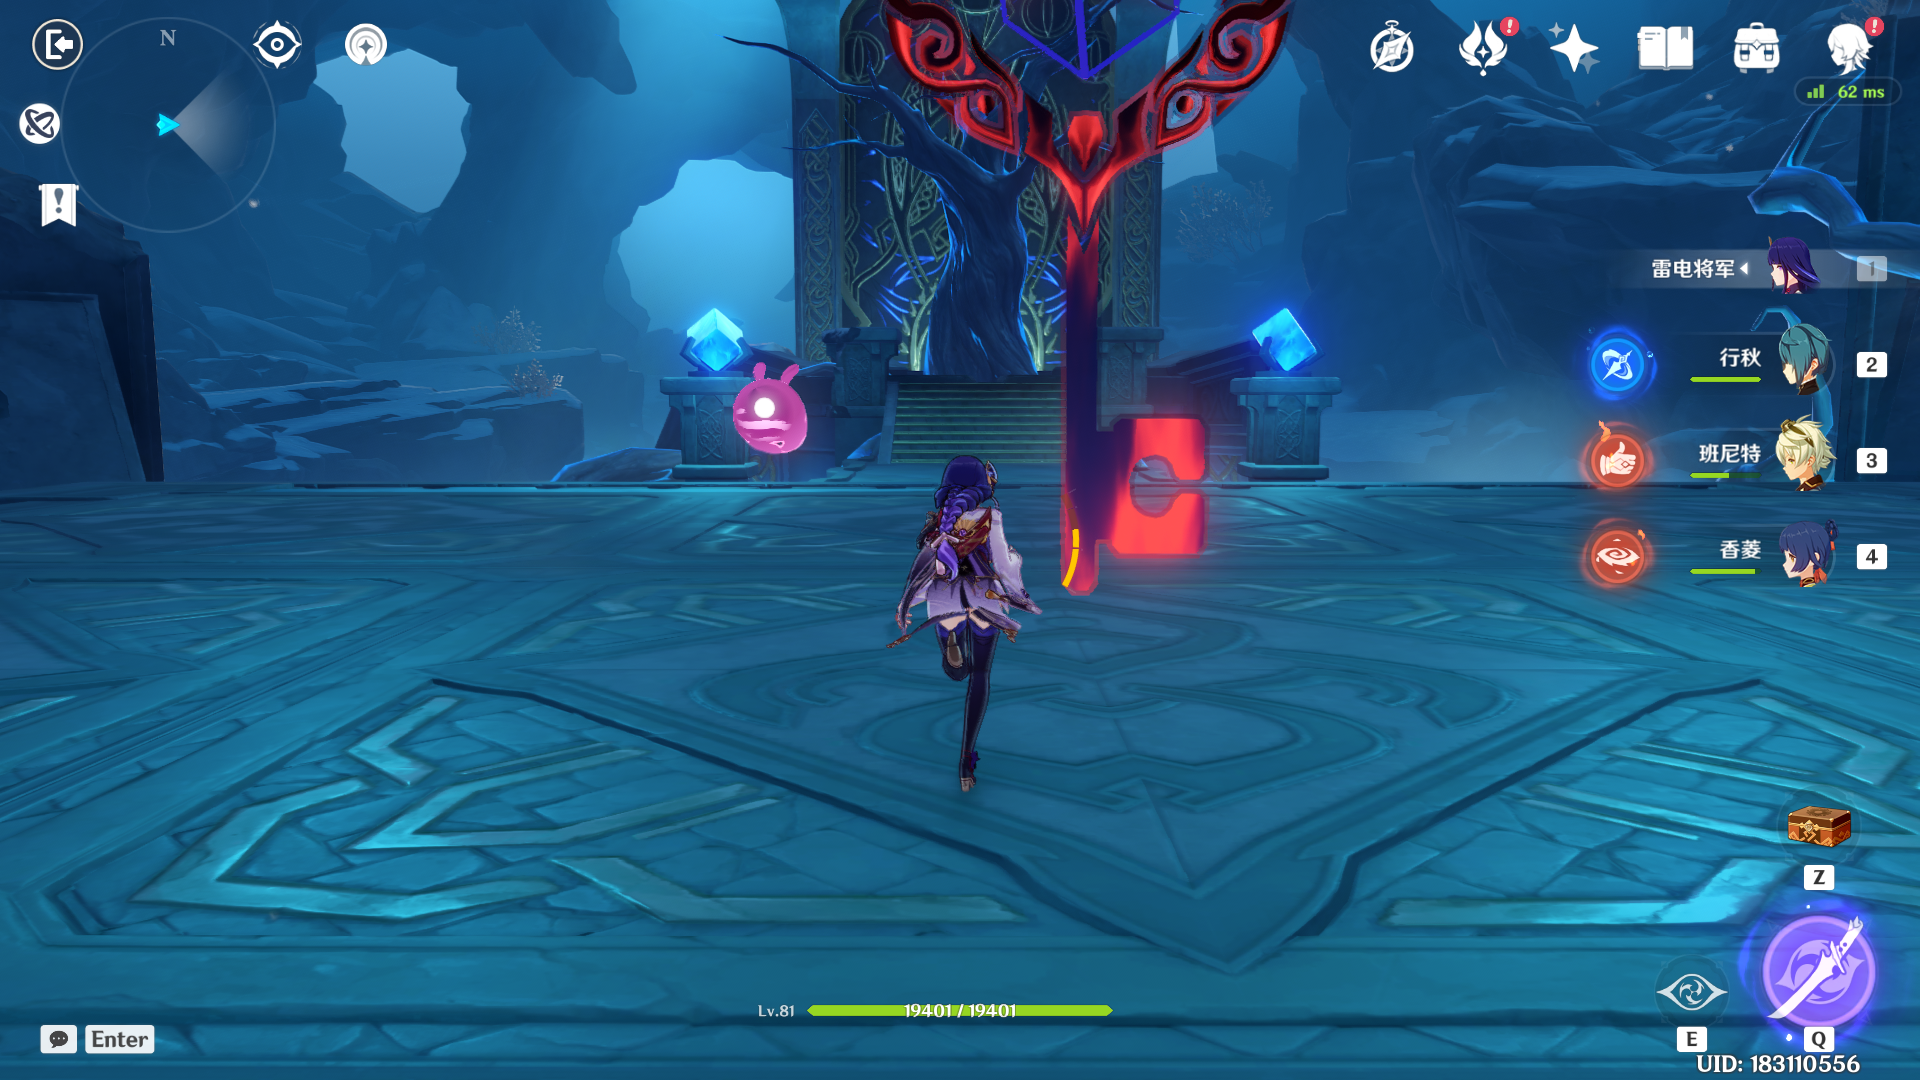character: (848, 425, 1091, 802)
